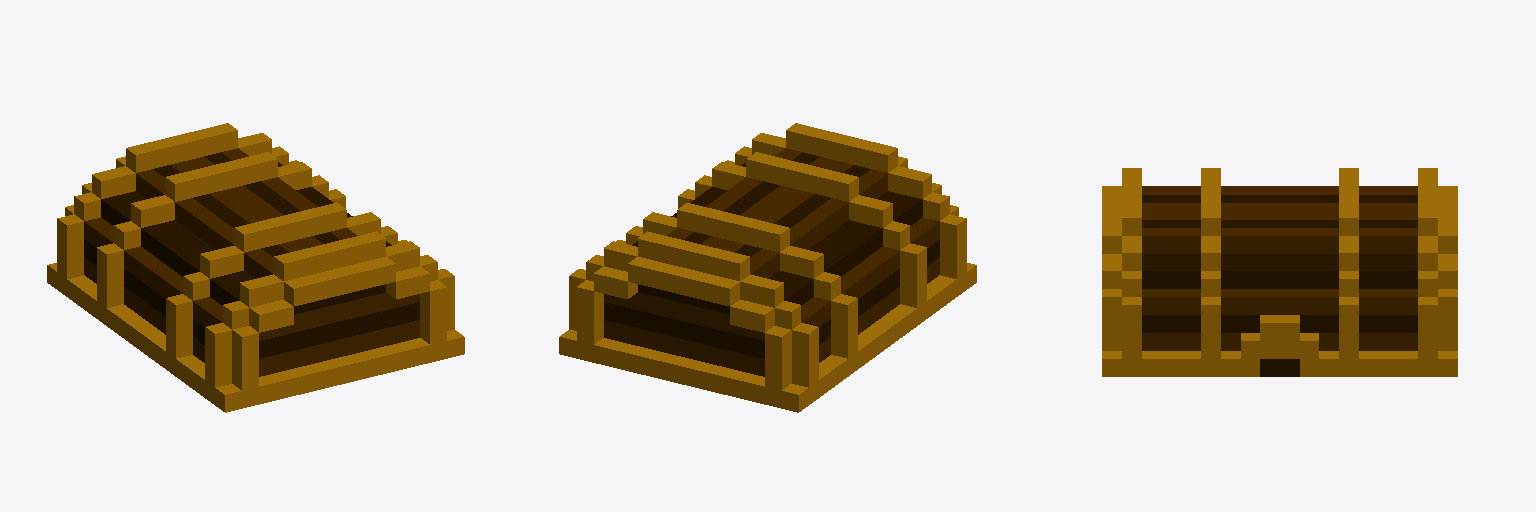
3 renders of one model, left to right at view 1: azimuth 30°, elevation 25°; view 2: azimuth 150°, elevation 25°; view 3: azimuth 270°, elevation 25°, orthographic.
Visible parts, largest first — view 1: Matrix_part_11; view 2: Matrix_part_11; view 3: Matrix_part_11.
Part boxes in pixels (x1,y1,x2,y2): Matrix_part_11: (47, 123, 464, 412); Matrix_part_11: (559, 123, 976, 412); Matrix_part_11: (1102, 168, 1457, 376).
Size of the model in its own units: 14 by 7 by 18.
1 materials, 1 textured.